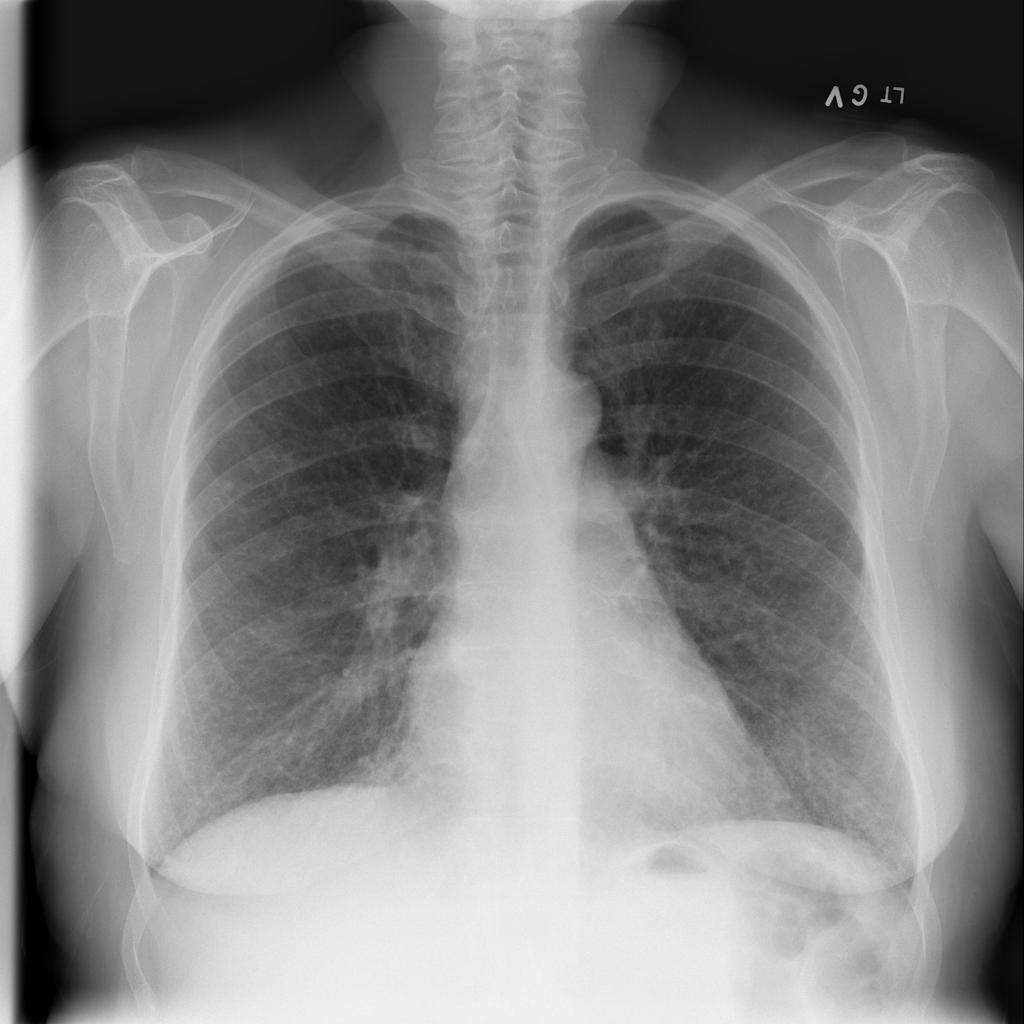nodule: (202, 461, 252, 510)
